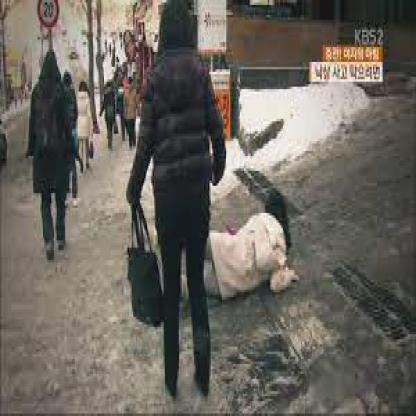Fall_Down: (152, 183, 304, 302)
